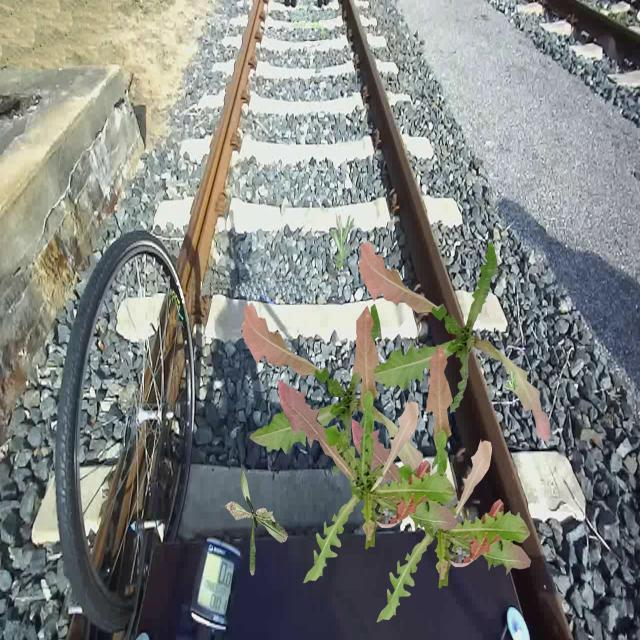Plant: (352, 345, 532, 623), (278, 305, 458, 583), (241, 302, 434, 504), (358, 239, 550, 442), (225, 464, 289, 576), (329, 213, 356, 270), (504, 370, 518, 390)
